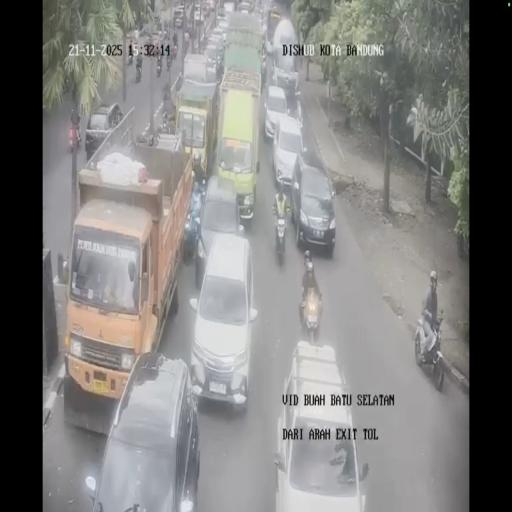car: (273, 340, 365, 509), (194, 175, 244, 285), (292, 154, 336, 253), (85, 102, 123, 161), (264, 84, 288, 141), (203, 42, 224, 80), (216, 16, 230, 38), (173, 4, 184, 28), (138, 24, 152, 38), (238, 0, 252, 13), (194, 5, 202, 25), (223, 1, 235, 14)
motorcycle: (416, 309, 444, 390), (299, 282, 322, 342), (273, 203, 289, 263), (68, 118, 81, 153), (157, 111, 175, 136), (157, 31, 166, 55), (162, 82, 171, 103), (135, 60, 142, 82), (261, 55, 266, 83), (156, 57, 162, 77), (166, 50, 172, 69), (127, 48, 133, 66), (183, 36, 189, 54), (171, 42, 177, 59)
truck: (64, 122, 193, 411), (174, 62, 219, 180), (222, 8, 264, 86), (266, 3, 285, 50), (204, 0, 216, 16)
